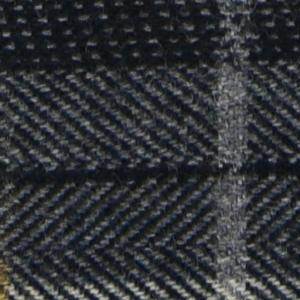Oil Stain: (1, 255, 19, 300)
